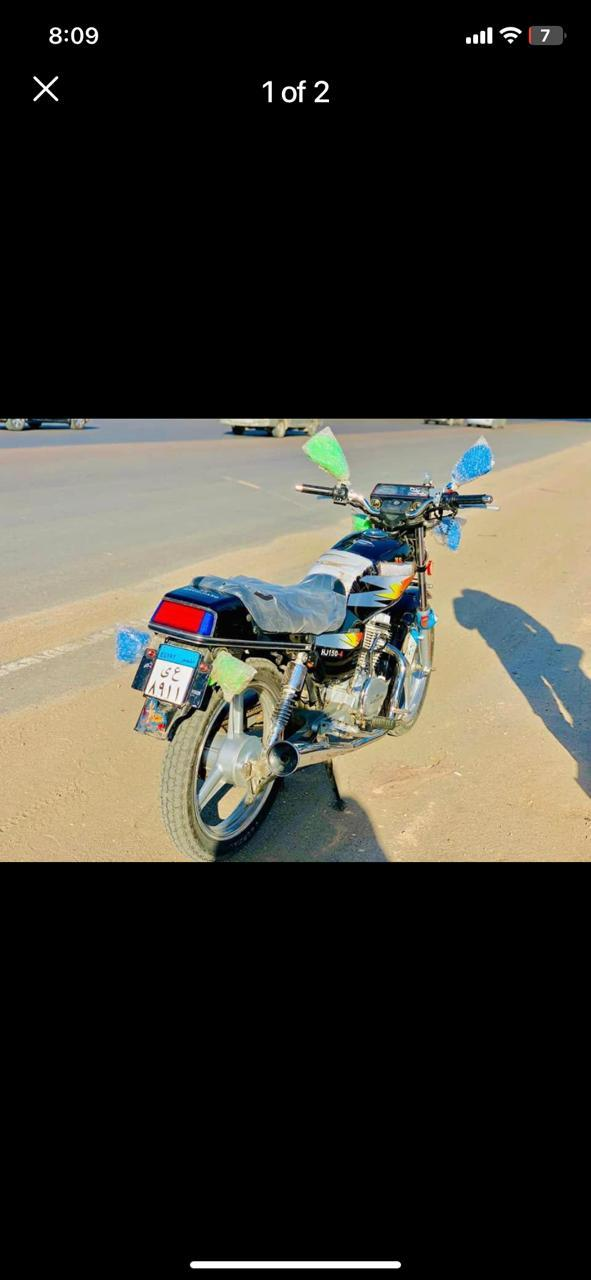License Plate: (142, 641, 201, 707)
